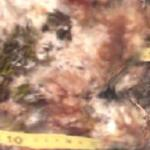alive: (3, 1, 147, 148)
